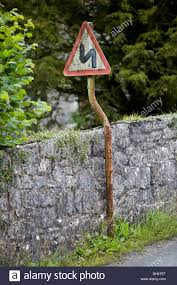Double_bend_left: (59, 15, 117, 78)
